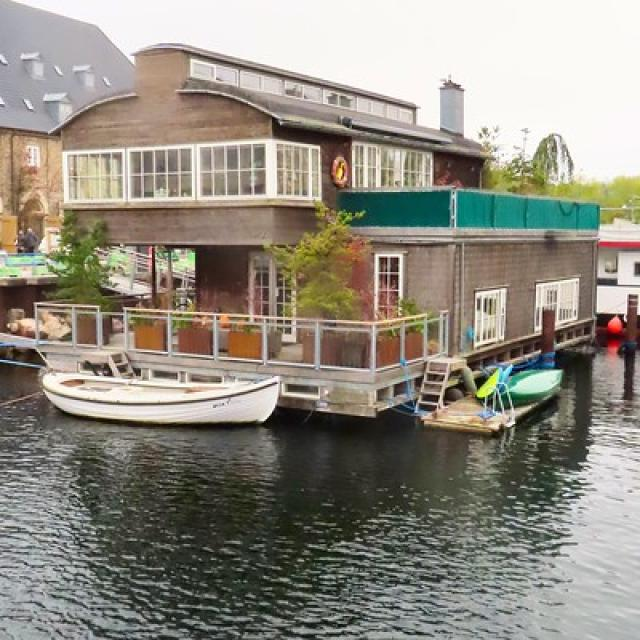building: (48, 41, 602, 426)
